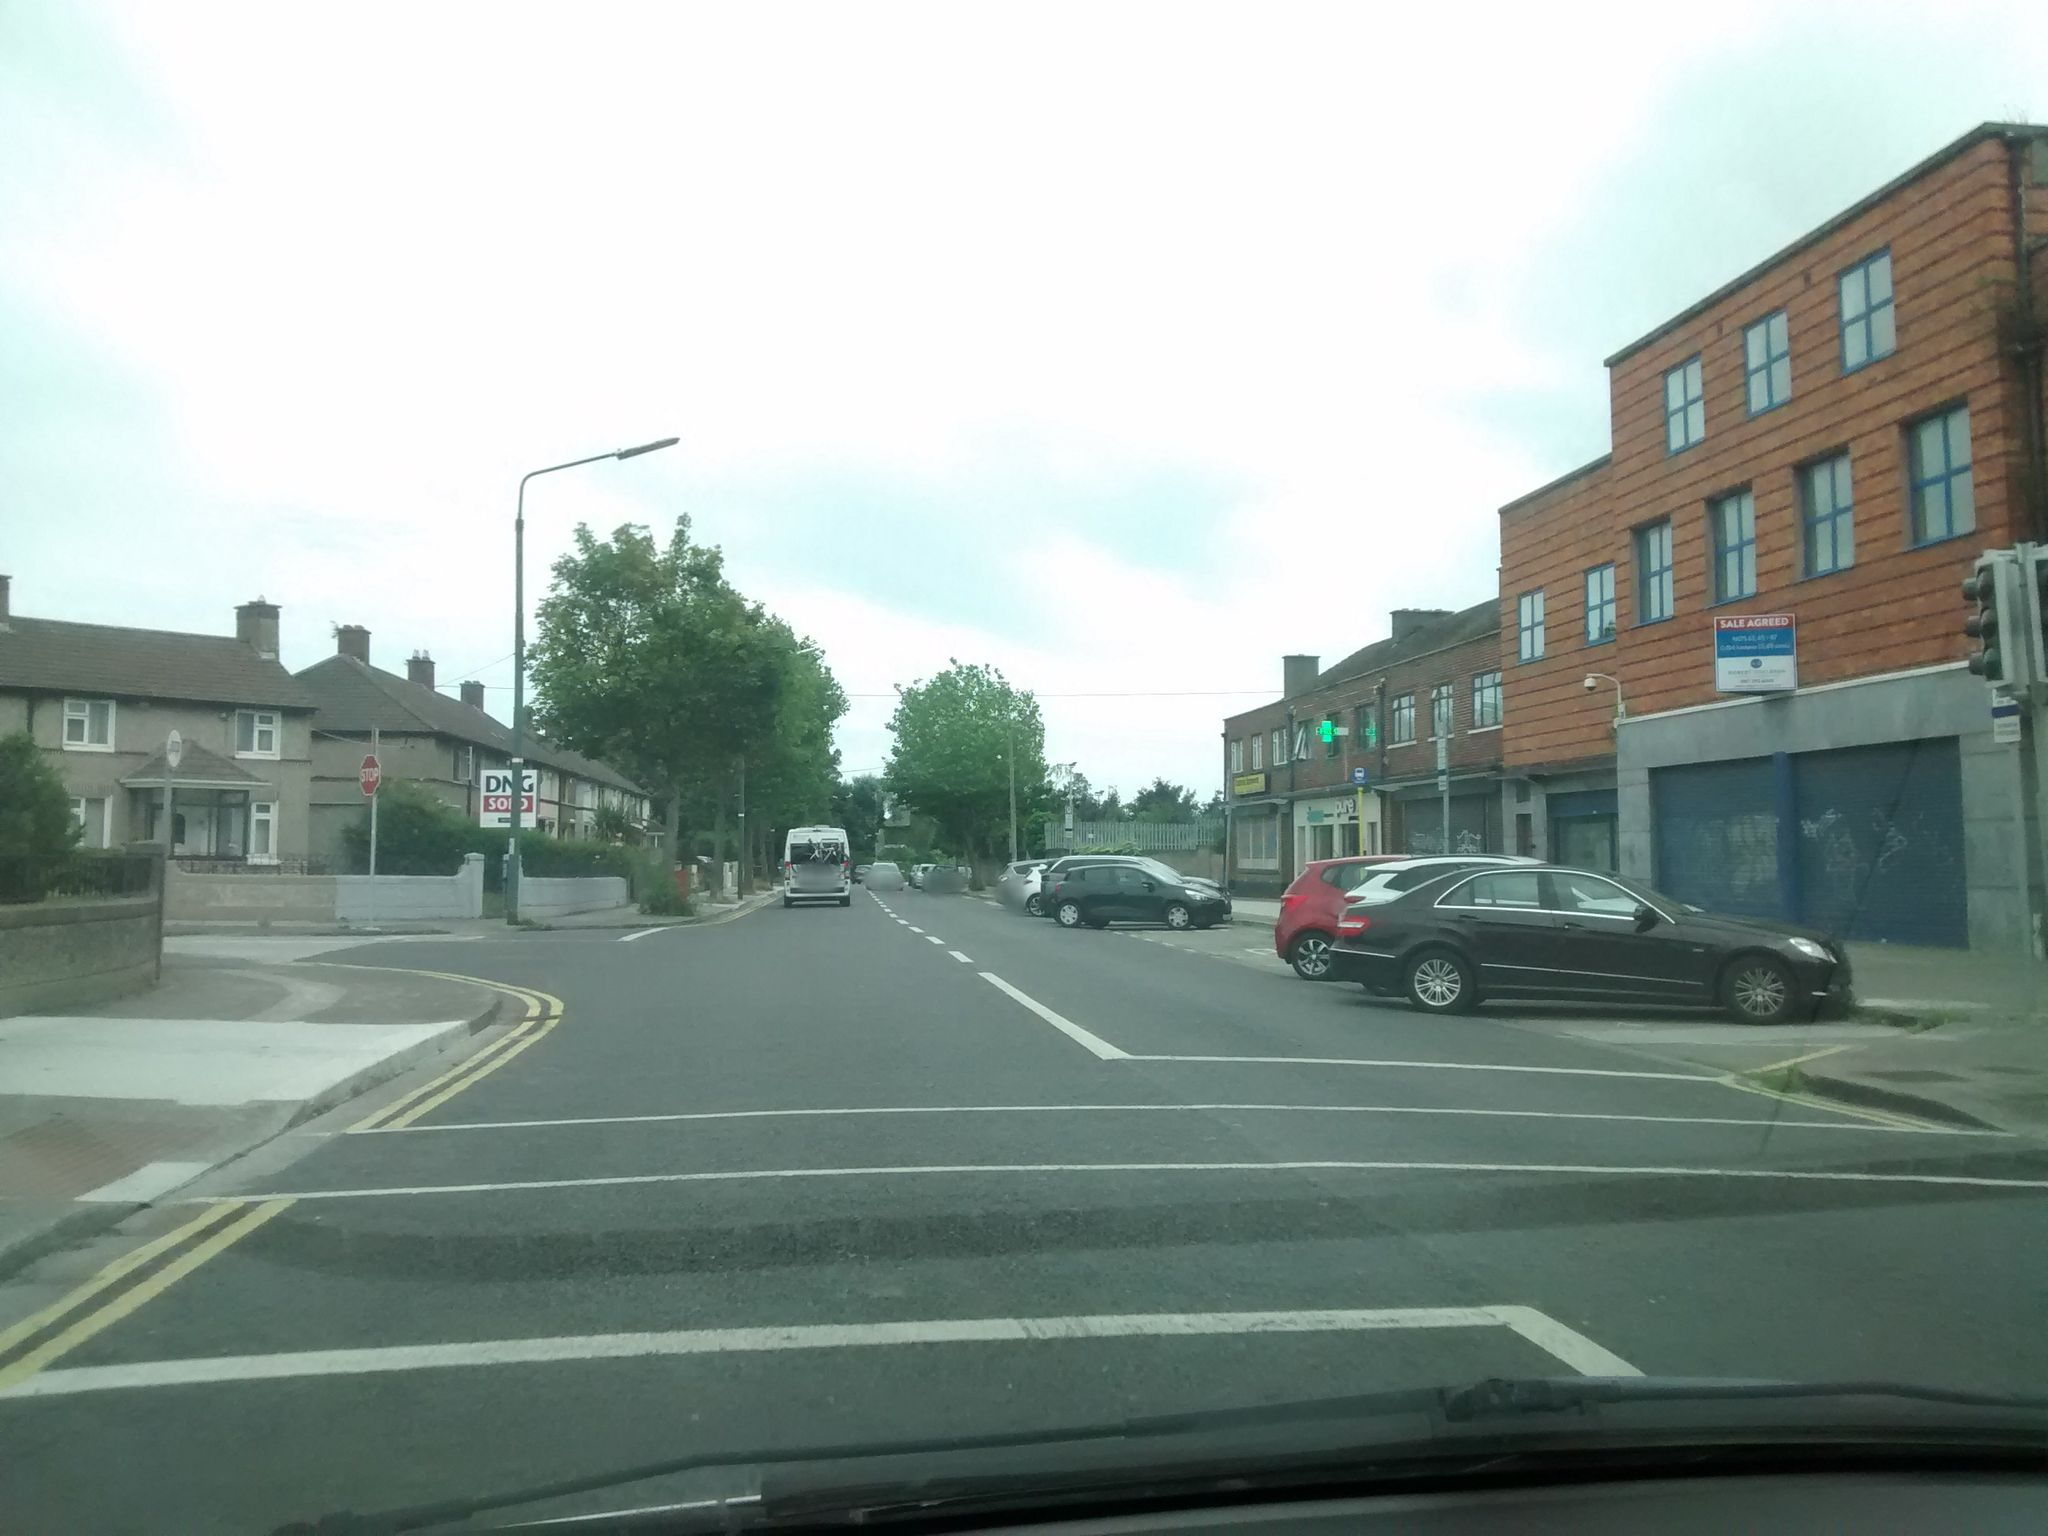property sign: (1709, 595, 1813, 705), (477, 745, 543, 833)
